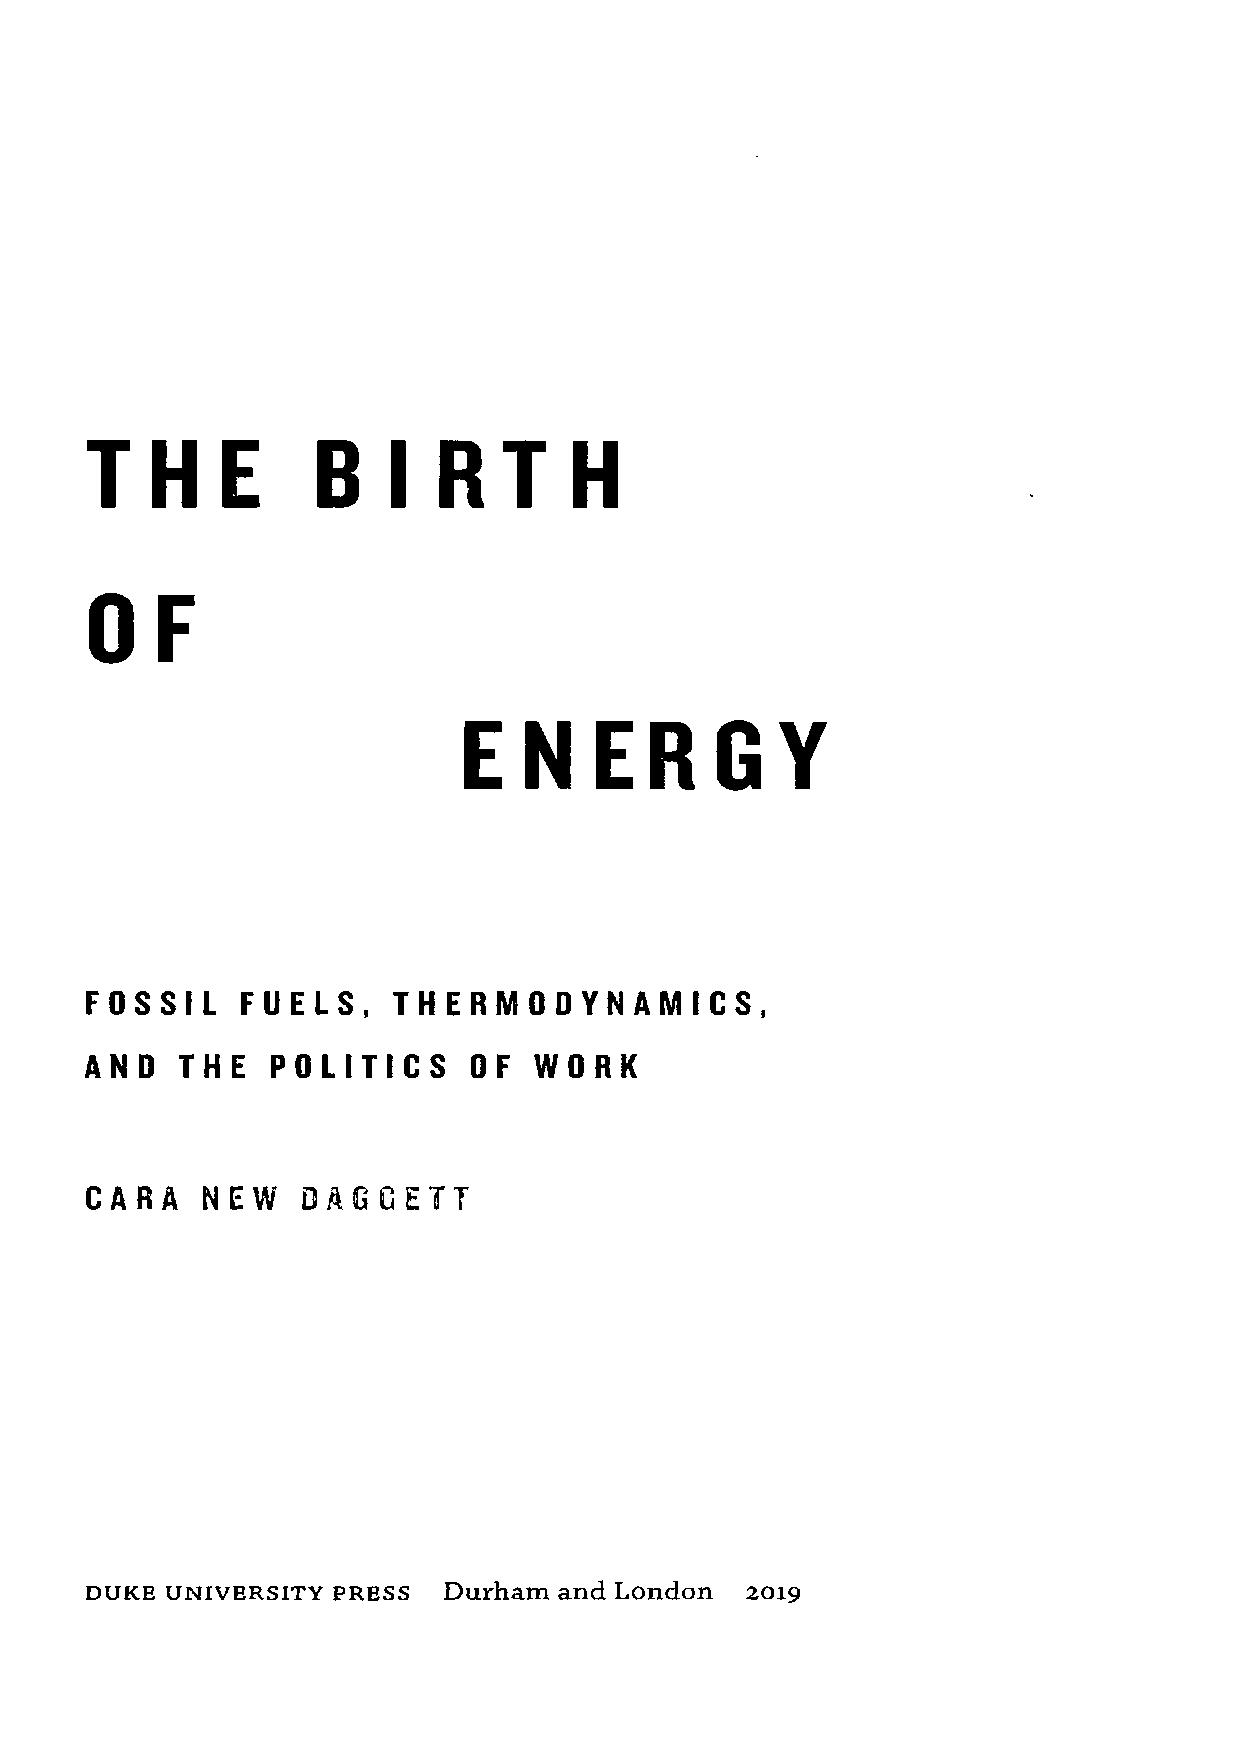author: (83, 1182, 471, 1212)
title: (85, 436, 828, 792)
